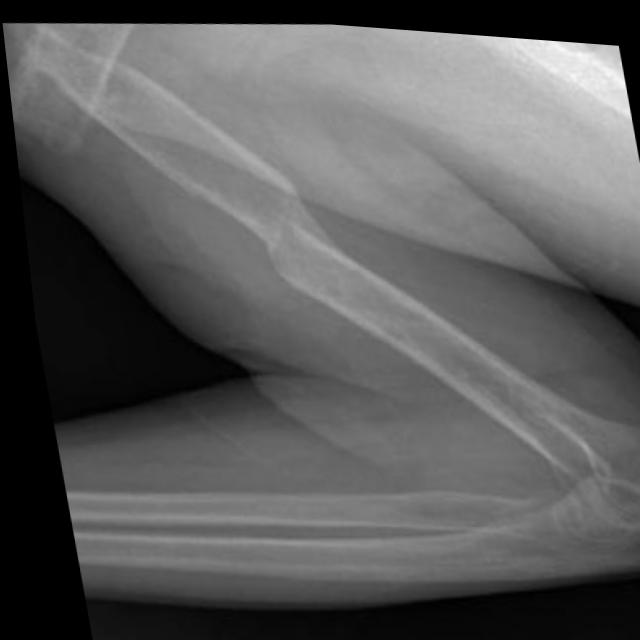fracture: (218, 188, 334, 267)
